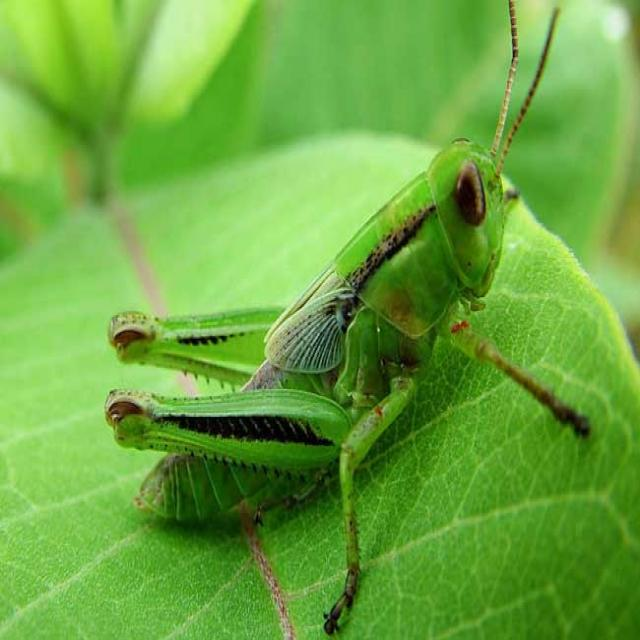ZhaMeng: (82, 102, 538, 534)
